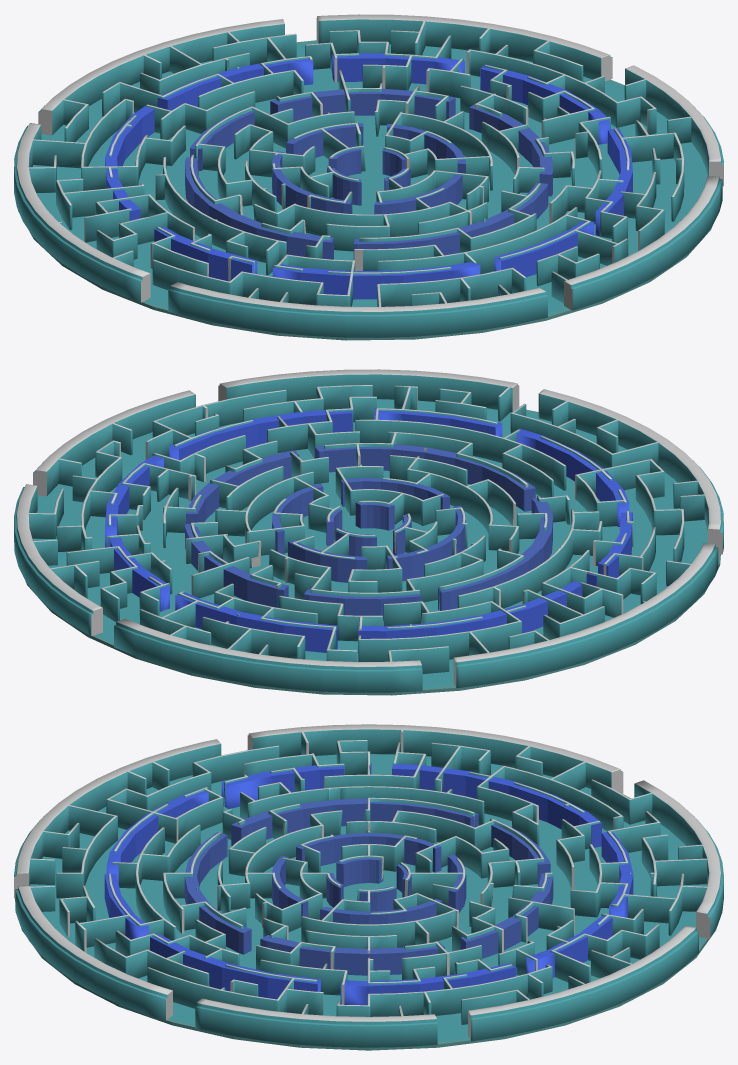
3 views of the same model, one above another, from view 1: azimuth 30°, elevation 25°; view 2: azimuth 150°, elevation 25°; view 3: azimuth 270°, elevation 25° (orthographic).
Parts seen in each view (by area): view 1: Walls.001, Base, Cylinder, Cylinder.001, Cylinder.002, Cylinder.004, Cylinder.003; view 2: Walls.001, Base, Cylinder, Cylinder.001, Cylinder.002, Cylinder.003, Cylinder.004; view 3: Walls.001, Base, Cylinder, Cylinder.001, Cylinder.002, Cylinder.003, Cylinder.004.
Part boxes in pixels (x1=…): Walls.001: x1=14, y1=14, x2=723, y2=337; Base: x1=32, y1=42, x2=707, y2=314; Cylinder: x1=105, y1=53, x2=632, y2=299; Cylinder.001: x1=185, y1=88, x2=552, y2=259; Cylinder.002: x1=272, y1=123, x2=465, y2=214; Cylinder.004: x1=18, y1=40, x2=712, y2=340; Cylinder.003: x1=327, y1=148, x2=410, y2=205; Walls.001: x1=14, y1=369, x2=723, y2=692; Base: x1=32, y1=399, x2=707, y2=688; Cylinder: x1=105, y1=408, x2=632, y2=653; Cylinder.001: x1=185, y1=444, x2=552, y2=620; Cylinder.002: x1=272, y1=478, x2=465, y2=582; Cylinder.003: x1=326, y1=502, x2=411, y2=556; Cylinder.004: x1=25, y1=409, x2=720, y2=695; Walls.001: x1=14, y1=724, x2=723, y2=1047; Base: x1=30, y1=754, x2=707, y2=1042; Cylinder: x1=104, y1=763, x2=633, y2=1005; Cylinder.001: x1=184, y1=798, x2=553, y2=975; Cylinder.002: x1=272, y1=833, x2=466, y2=924; Cylinder.003: x1=326, y1=858, x2=411, y2=911; Cylinder.004: x1=15, y1=793, x2=716, y2=1050.
Bounding box in the file's own units: 4138 × 180 × 4138.
